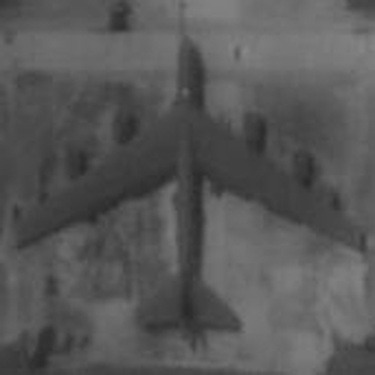airplane: (4, 9, 370, 356)
